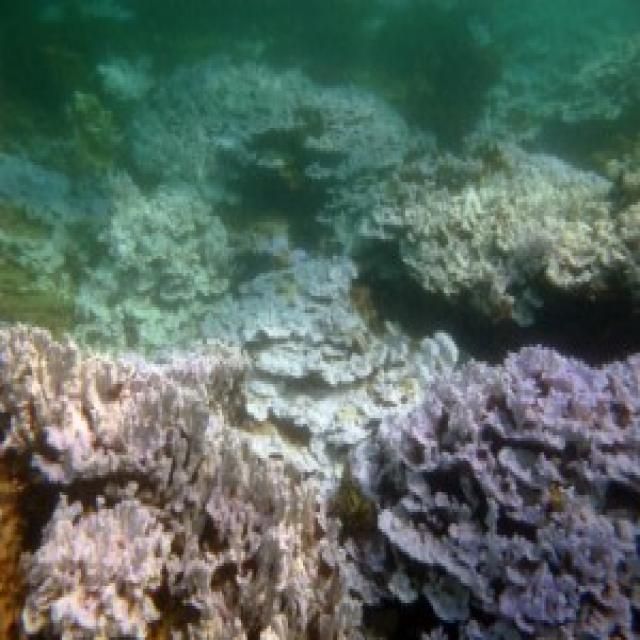Bleached: (1, 320, 350, 640), (361, 131, 640, 319), (196, 256, 462, 447), (95, 62, 435, 179), (1, 178, 231, 314)
Healthy: (352, 352, 640, 640), (1, 152, 78, 226), (1, 456, 26, 640)
